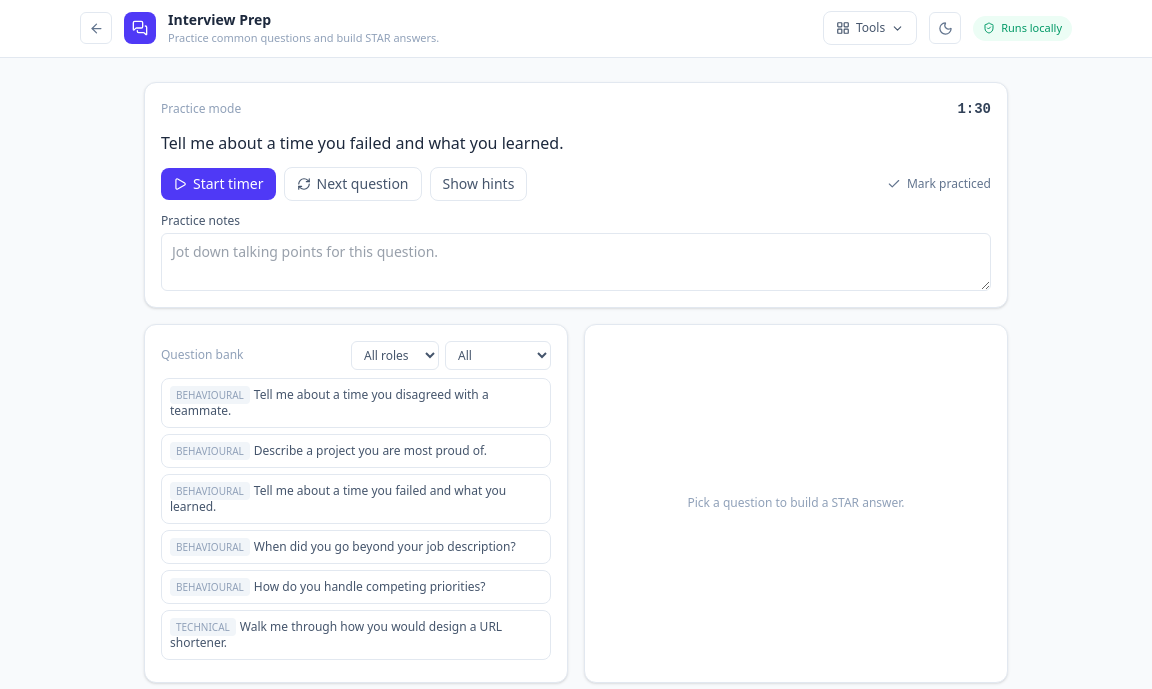
Scenario: InterviewApp › shows live feedback while building an answer
The width and height of the screenshot is (1152, 689).
Click the button "Tell me about a time you disagreed" at (356, 402), box [161,378,551,428]
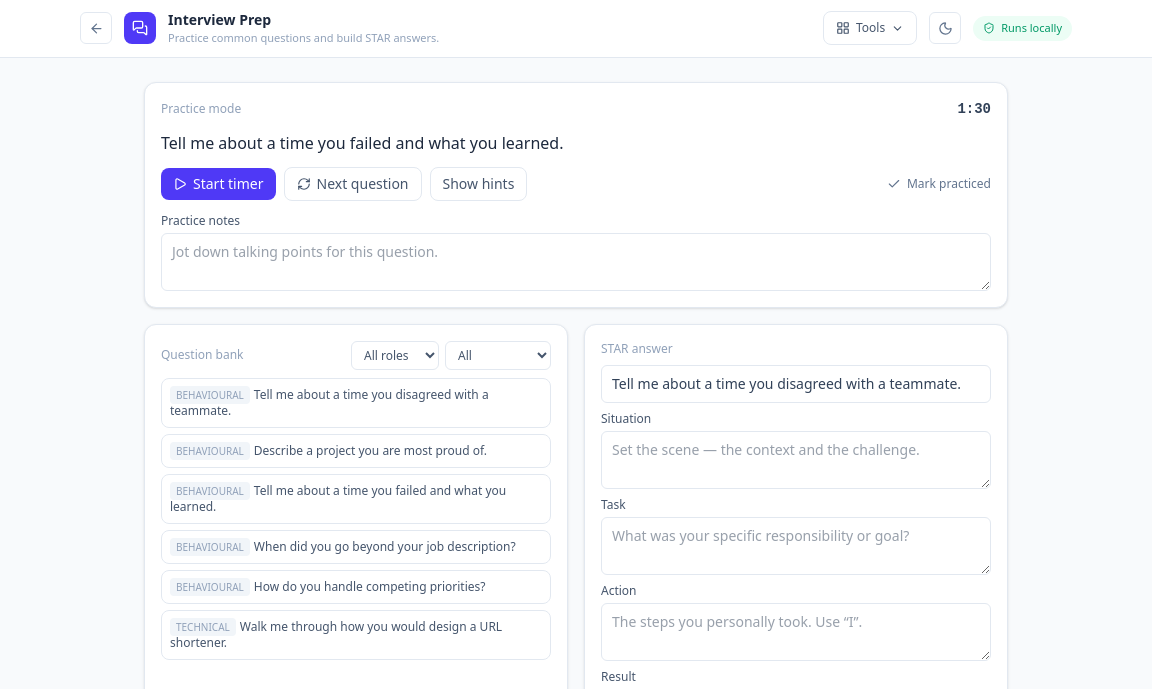
Type "At work" into the text box labelled "situation" at (796, 460), box [601,430,991,488]
(page scrolled)
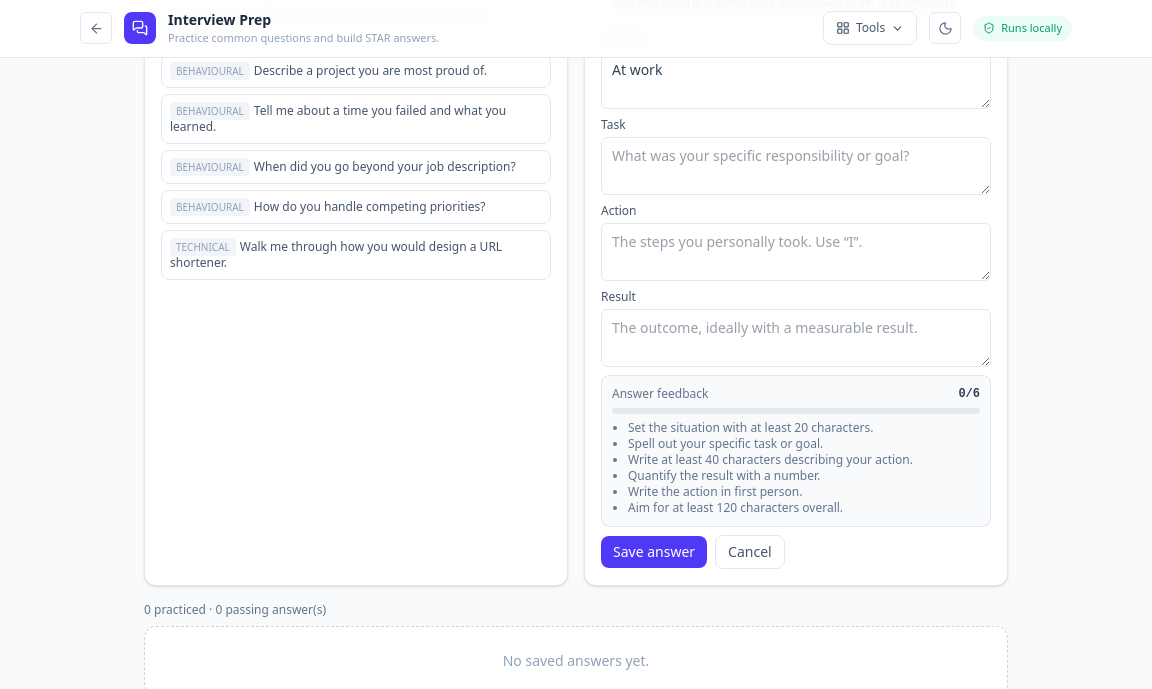
Result: the text named "Feedback score" is shown at [958,386,980,402]
